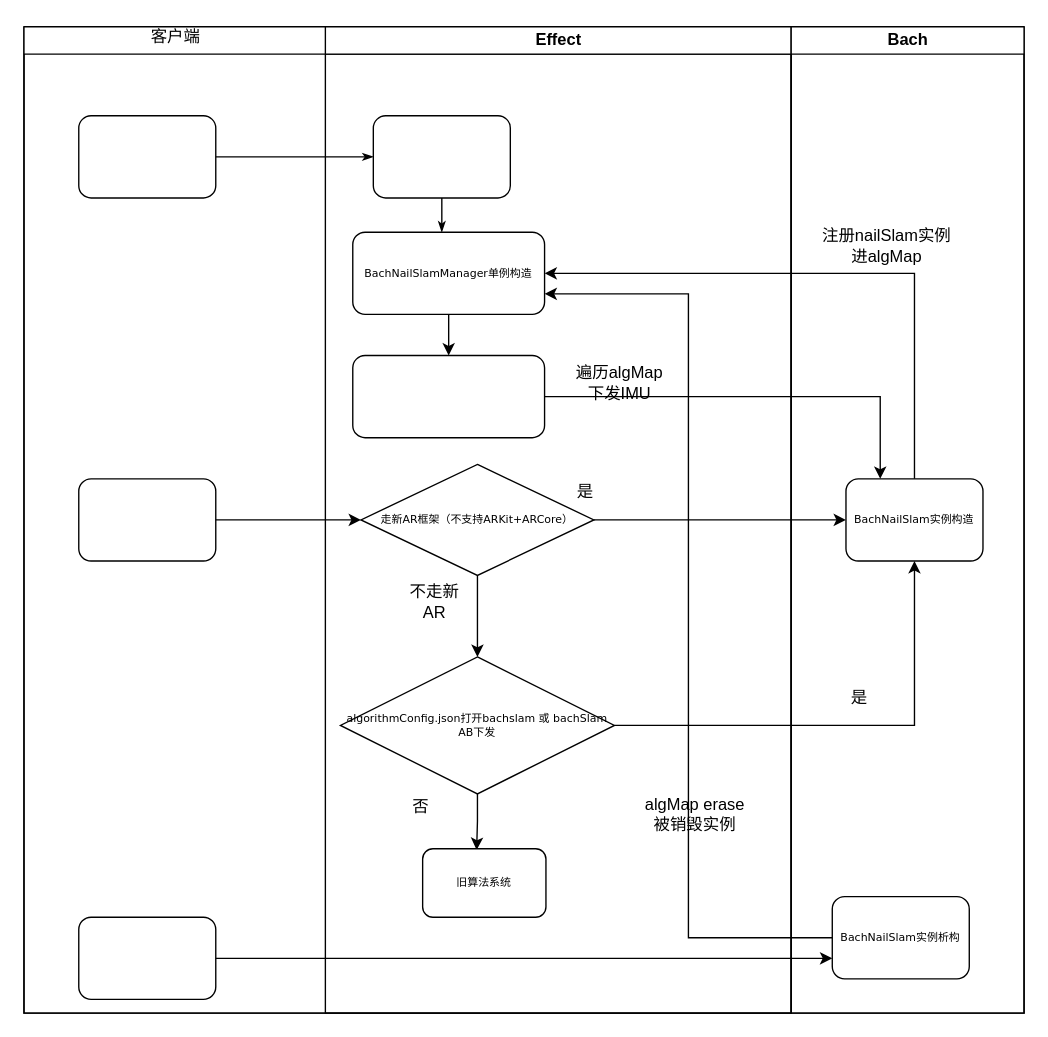
This 1048x1037 diagram has some shape labels left out. Here are the shapes that lost their labels. From the top down, the centre of each, then its label:
At point (146, 156): "进入Feed页".
At point (441, 156): "NailSlamAdapter构造".
At point (448, 396): "sensorAgent注册".
At point (146, 519): "点击AR贴纸".
At point (146, 957): "取消AR贴纸".
